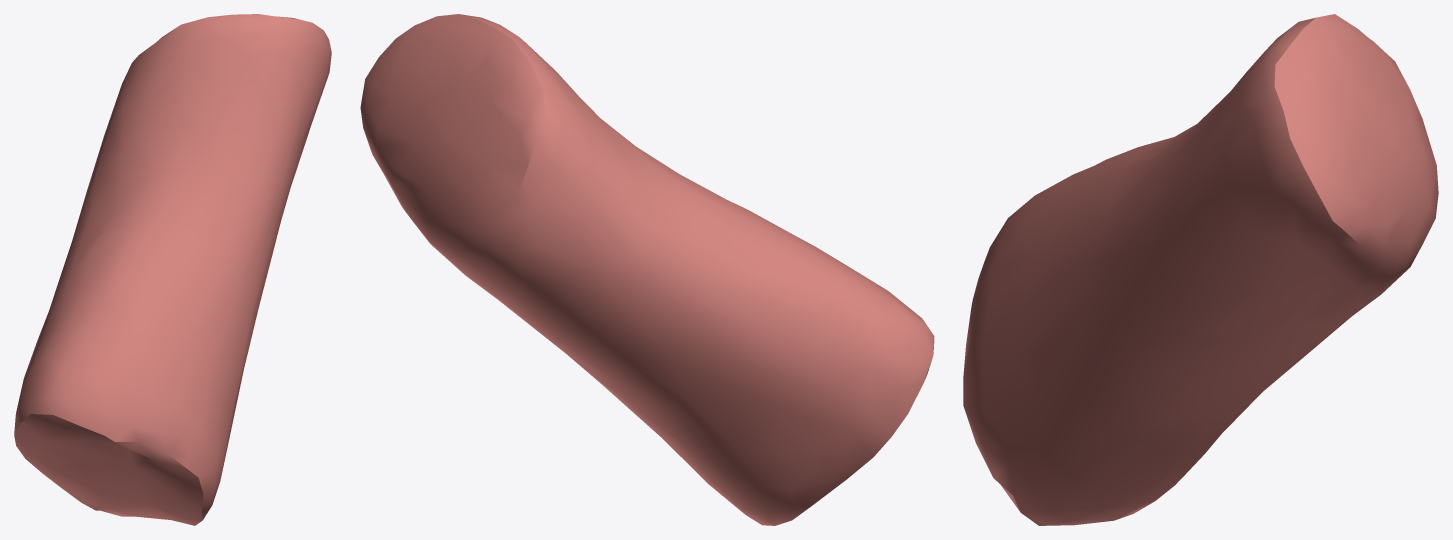
File: fma38556-o_mm1815.glb
3 views of the same model, side by side, from view 1: azimuth 30°, elevation 25°; view 2: azimuth 150°, elevation 25°; view 3: azimuth 270°, elevation 25° (orthographic). The views are drawn at different scales.
Visible parts, largest first — view 1: FMA38556-O_MM1815; view 2: FMA38556-O_MM1815; view 3: FMA38556-O_MM1815.
Part boxes in pixels (x1,y1,x2,y2): FMA38556-O_MM1815: [14, 14, 331, 525]; FMA38556-O_MM1815: [360, 14, 934, 525]; FMA38556-O_MM1815: [963, 14, 1438, 525].
Bounding box in the file's own units: 0.0129 × 0.0132 × 0.00953.
